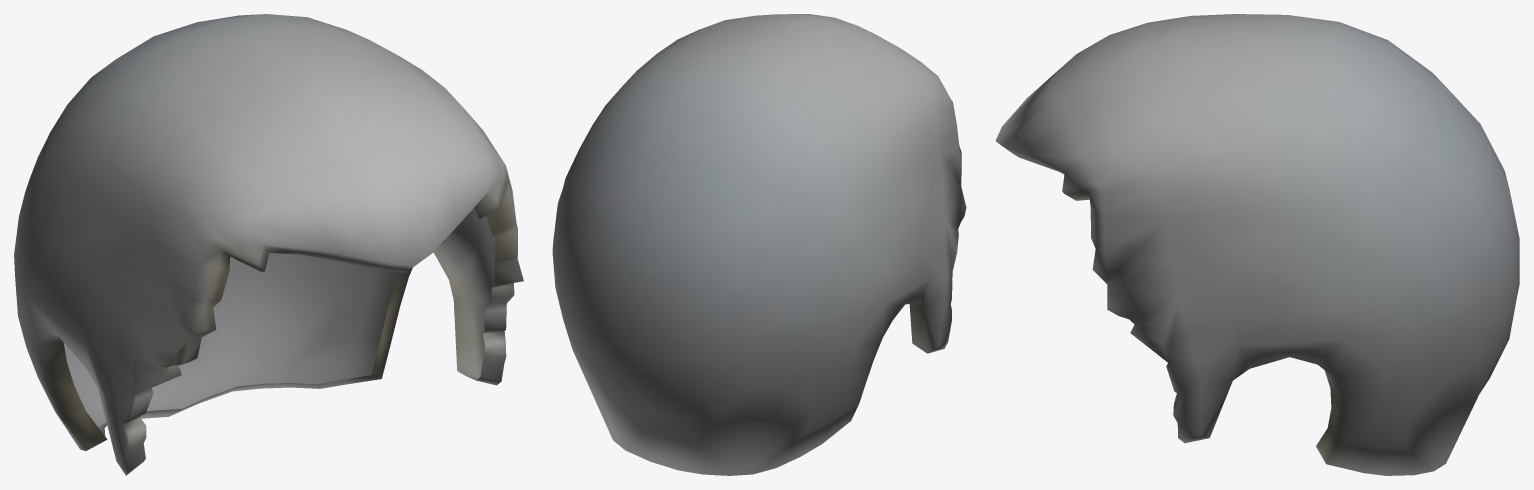
The model's file is cheveux_buzzedfemale.glb.
3 renders of one model, left to right at view 1: azimuth 30°, elevation 25°; view 2: azimuth 150°, elevation 25°; view 3: azimuth 270°, elevation 25°, orthographic. The views are drawn at different scales.
Parts seen in each view (by area): view 1: Hair_BuzzedFemale; view 2: Hair_BuzzedFemale; view 3: Hair_BuzzedFemale.
Boxes of the visible parts, x1=… form: Hair_BuzzedFemale: x1=14, y1=14, x2=523, y2=475; Hair_BuzzedFemale: x1=552, y1=14, x2=966, y2=475; Hair_BuzzedFemale: x1=995, y1=14, x2=1519, y2=475.
Bounding box in the file's own units: 0.1587 × 0.1702 × 0.1976.
Materials: 1 (1 with a texture image).
